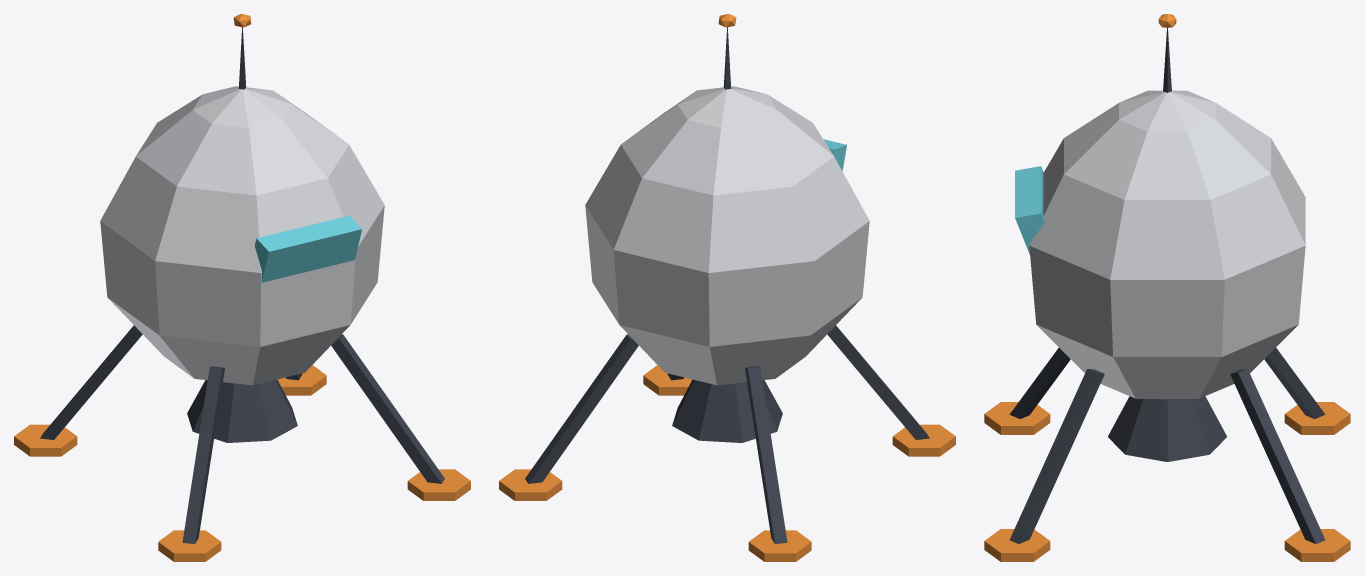
File: ShipPod.fbx
The picture shows the model from 3 angles, left to right: view 1: azimuth 30°, elevation 25°; view 2: azimuth 150°, elevation 25°; view 3: azimuth 270°, elevation 25°; orthographic projection. The views are drawn at different scales.
Visible parts, largest first — view 1: ShipPod; view 2: ShipPod; view 3: ShipPod.
Part boxes in pixels (left/top/right/bottom): ShipPod: left=14, top=14, right=470, bottom=561; ShipPod: left=499, top=14, right=955, bottom=561; ShipPod: left=984, top=14, right=1350, bottom=561.
Bounding box in the file's own units: 2.75 × 4.01 × 2.82.
